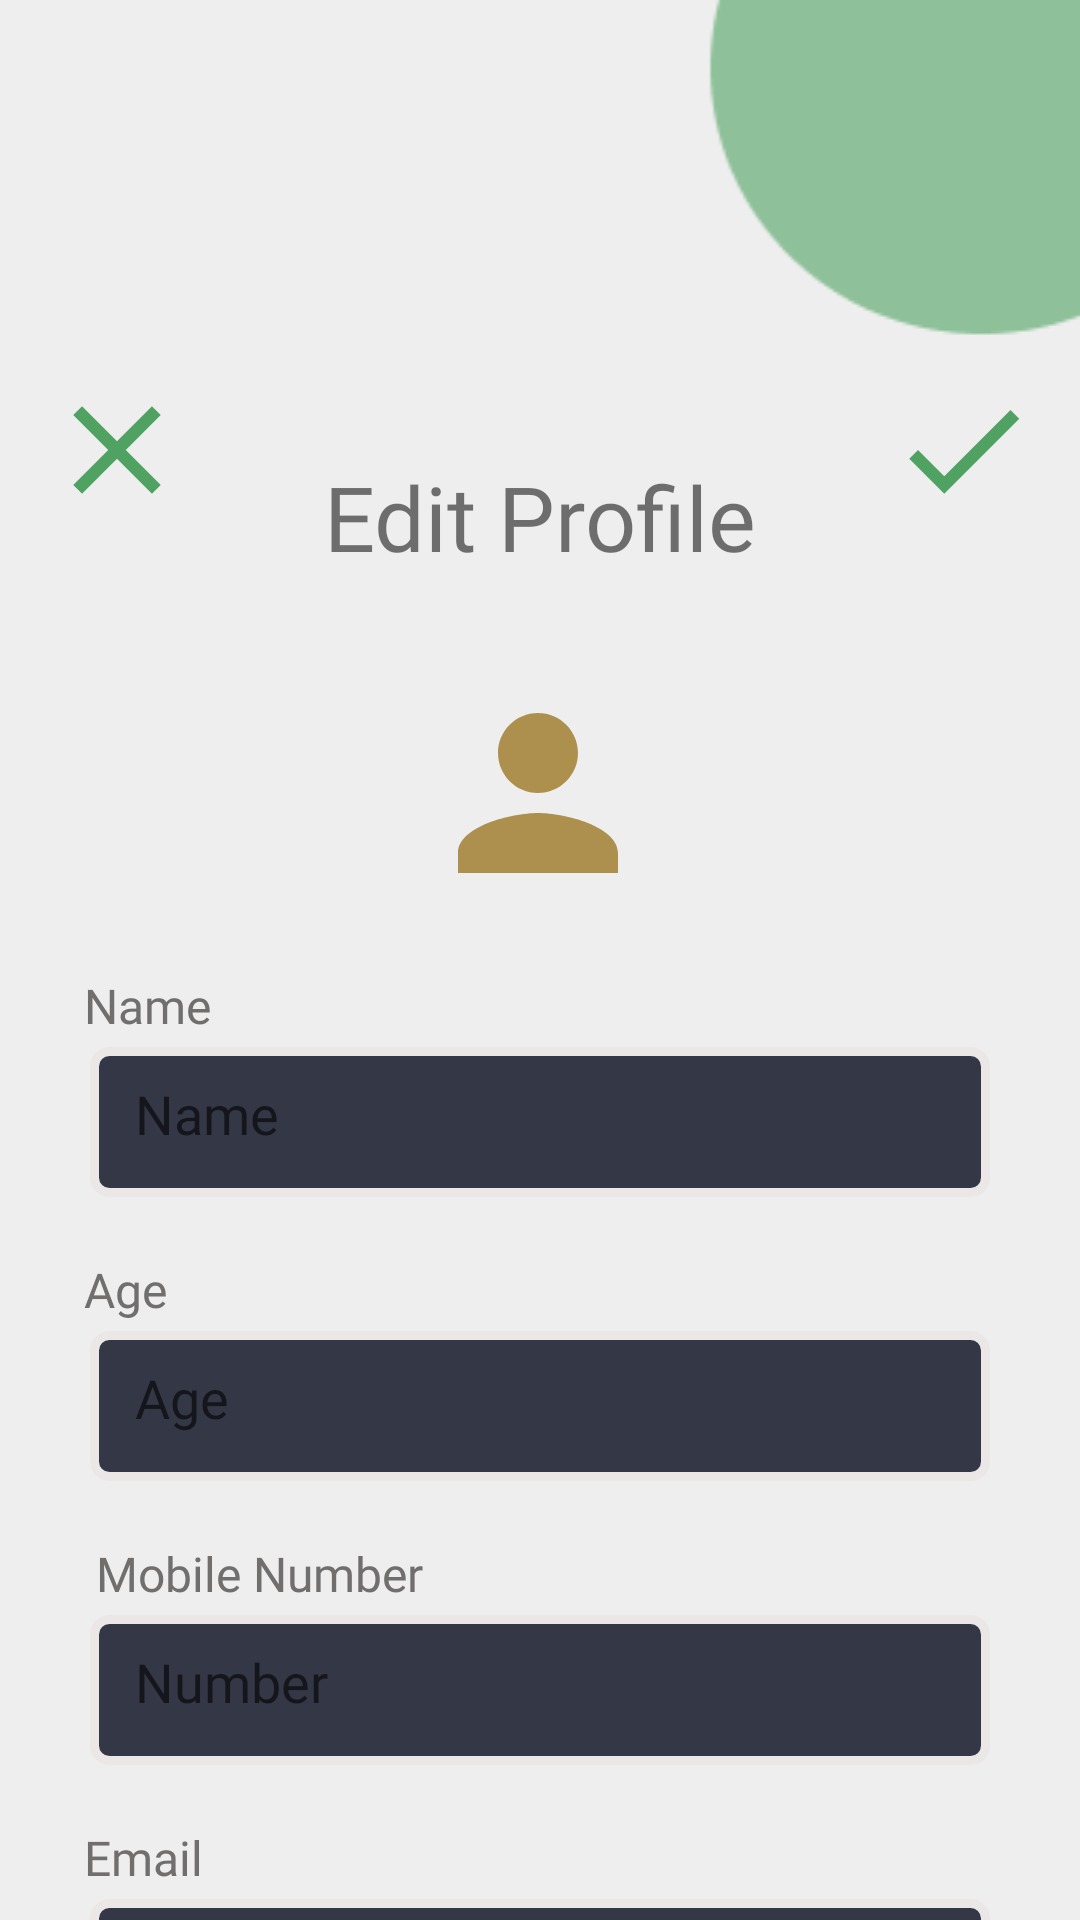

Icons on this 1080 × 1920 Android screen, each with its box as (x1, y1, x2, y2):
close: (73, 406, 161, 494)
done: (909, 410, 1019, 494)
person: (458, 713, 618, 873)
